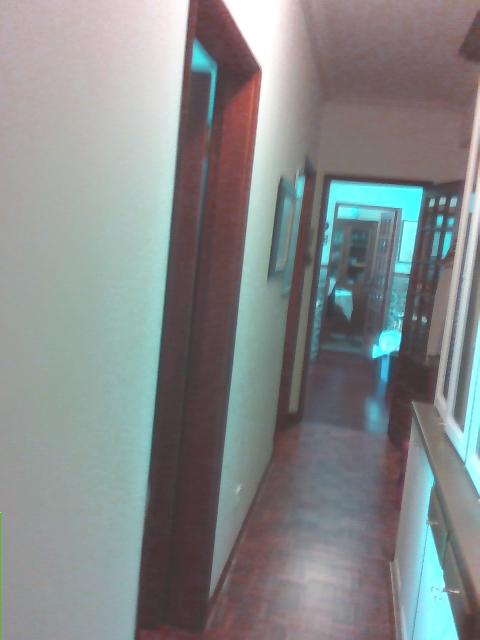open_door: (298, 172, 429, 442)
